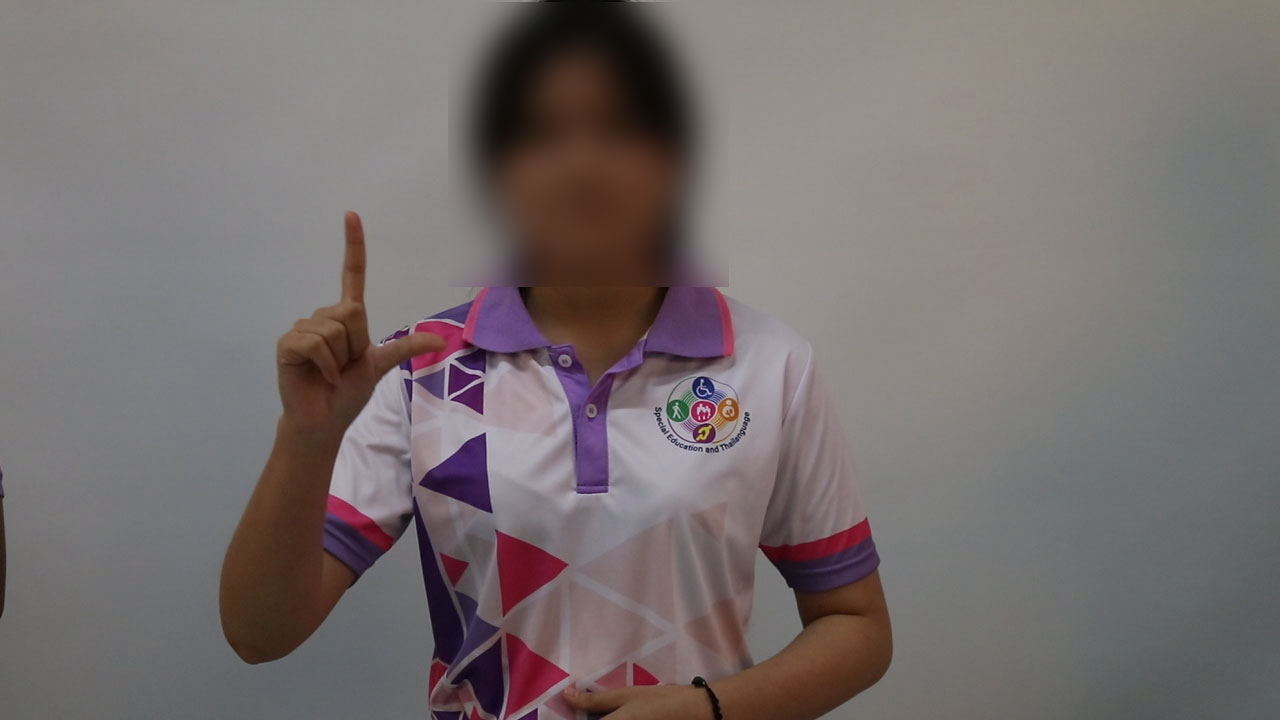lor: (255, 201, 464, 451)
